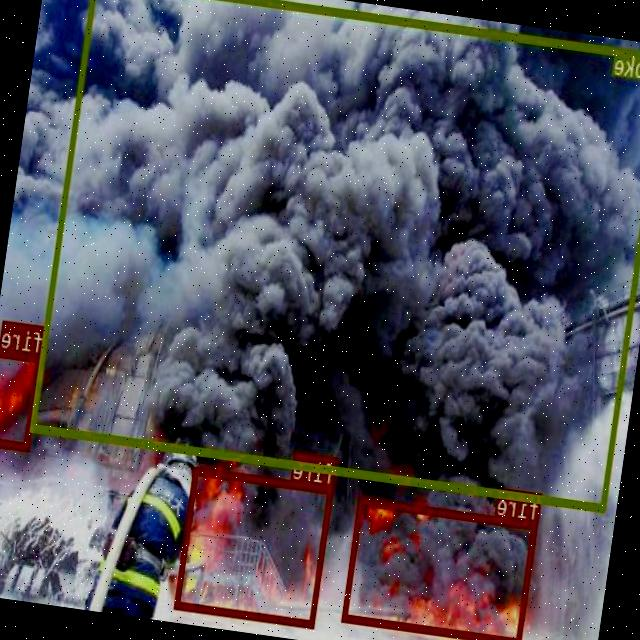fire: (343, 497, 539, 640), (176, 466, 334, 626), (0, 348, 43, 449)
smoke: (31, 0, 640, 511)
